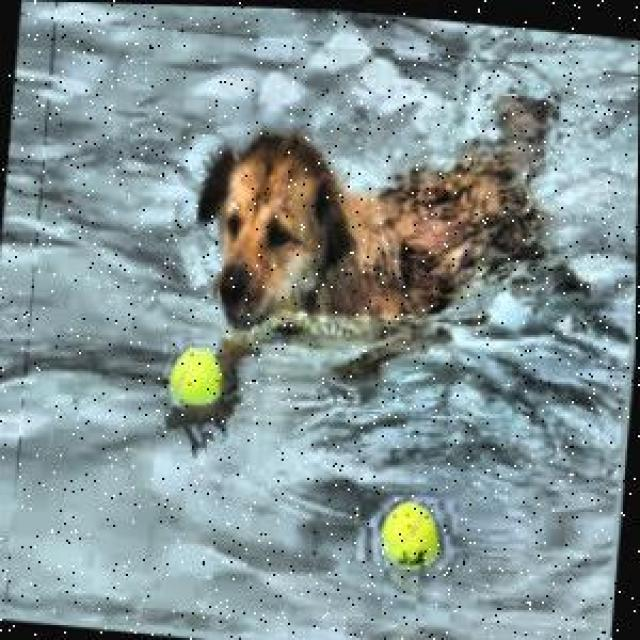tennis-ball: (381, 494, 447, 568), (167, 344, 229, 408)
